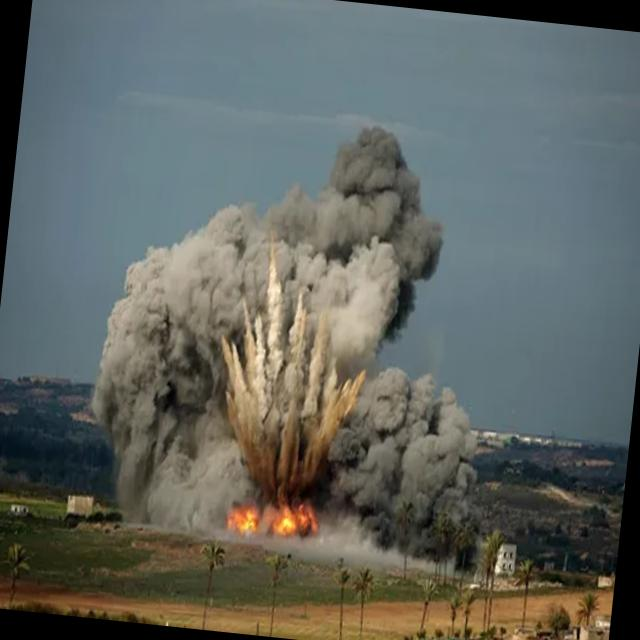Smoke: (76, 98, 522, 566)
